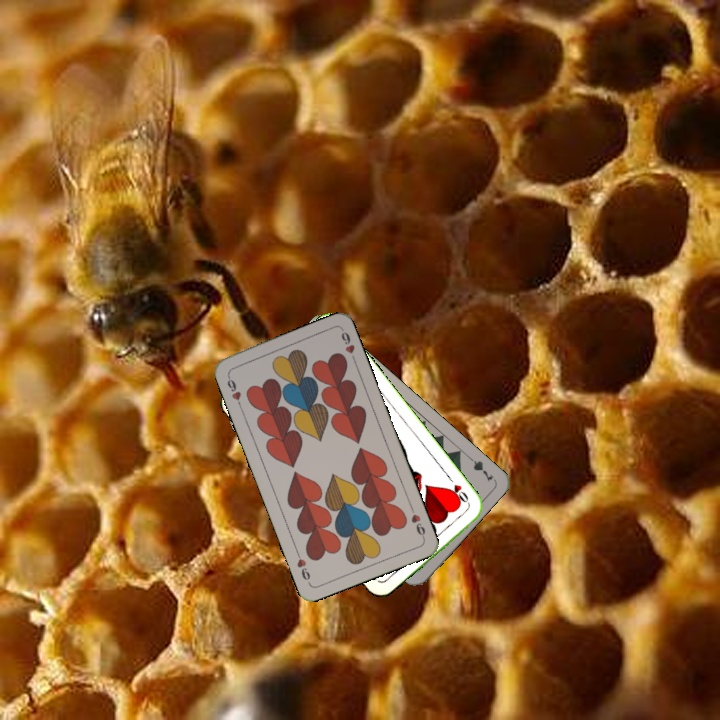G7: (463, 451, 496, 485)
H9: (406, 502, 428, 541), (223, 371, 244, 410)
HO: (444, 473, 473, 510)
